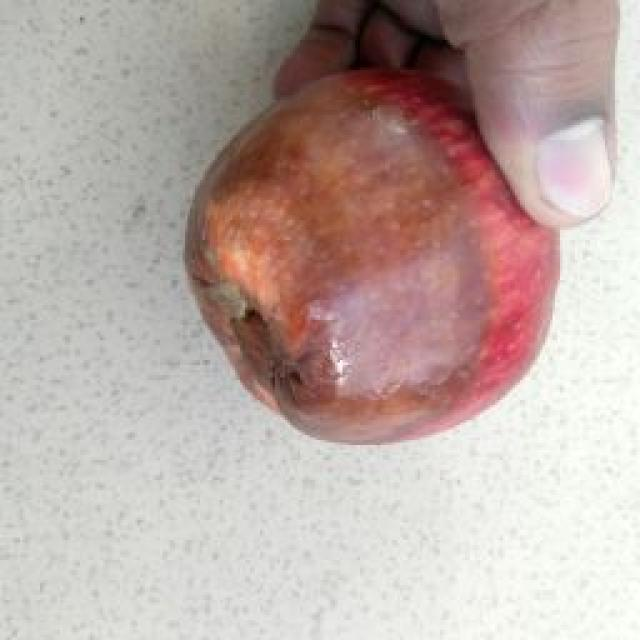Bad_Apple: (186, 71, 558, 442)
